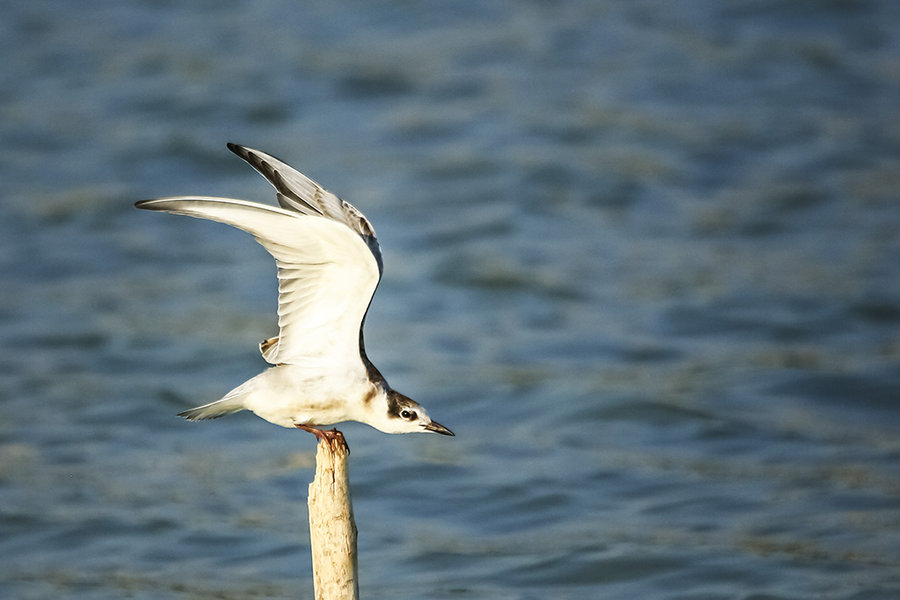bird: (132, 136, 463, 440)
